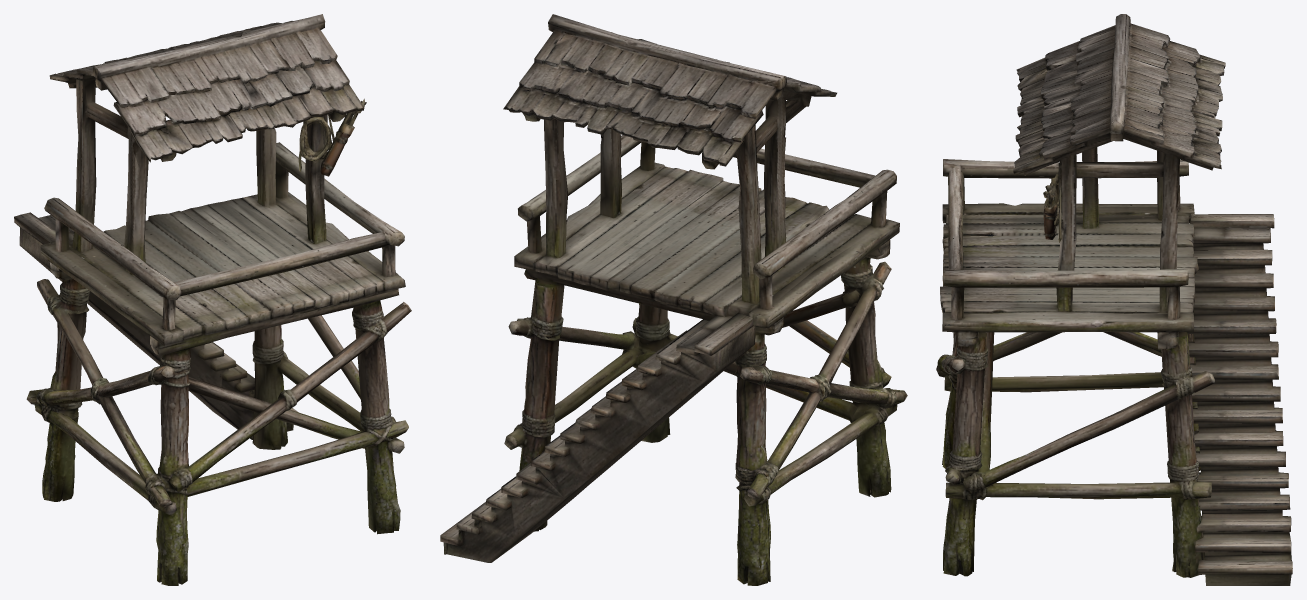
Rendered from HunterLookout.gltf.
The picture shows the model from 3 angles, left to right: view 1: azimuth 30°, elevation 25°; view 2: azimuth 150°, elevation 25°; view 3: azimuth 270°, elevation 25°; orthographic projection. The views are drawn at different scales.
Parts seen in each view (by area): view 1: lo; view 2: lo; view 3: lo.
Part boxes in pixels (x1,y1,x2,y2): lo: (14,14,411,585); lo: (440,14,907,585); lo: (936,14,1292,585).
Bounding box in the file's own units: 4.49 × 7.2 × 5.09.
1 material, 1 textured.
